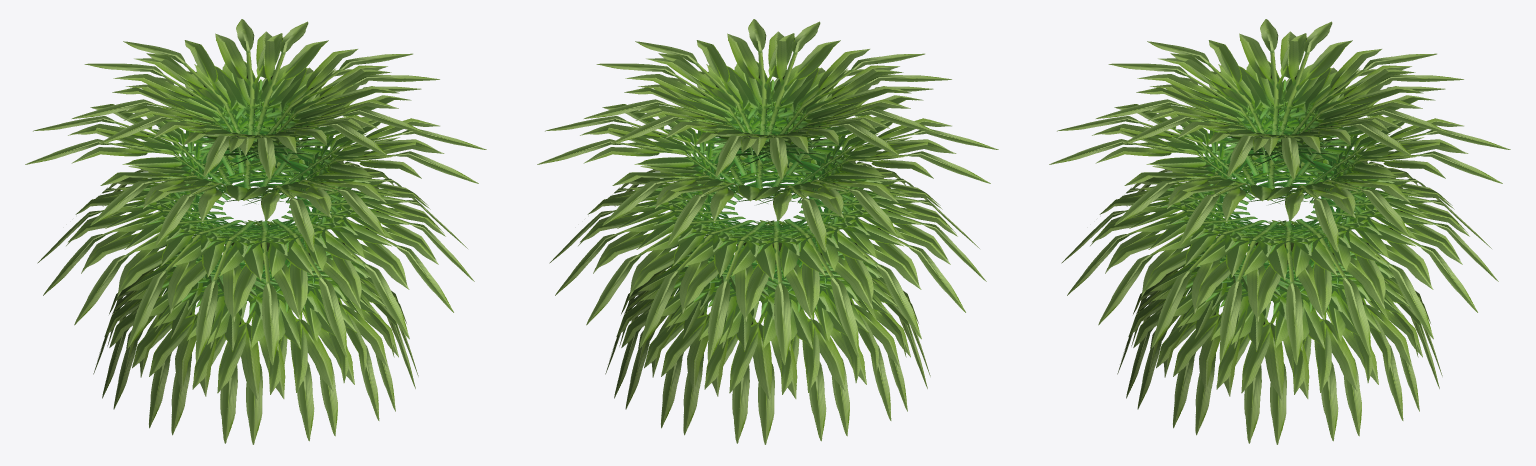
File: grass.fbx
3 renders of one model, left to right at view 1: azimuth 30°, elevation 25°; view 2: azimuth 150°, elevation 25°; view 3: azimuth 270°, elevation 25°, orthographic.
Parts seen in each view (by area): view 1: Plane030, Plane015, Plane004, Plane055, Plane046, Plane031, Plane003, Plane013, Plane073, Plane047, Plane057, Plane042 (+48 smaller); view 2: Plane026, Plane025, Plane006, Plane028, Plane048, Plane039, Plane005, Plane081, Plane024, Plane043, Plane038, Plane080 (+46 smaller); view 3: Plane021, Plane020, Plane002, Plane044, Plane019, Plane035, Plane001, Plane077, Plane017, Plane059, Plane063, Plane018 (+46 smaller).
Part boxes in pixels (x1=…): Plane030: x1=119, y1=215, x2=256, y2=347; Plane015: x1=245, y1=225, x2=361, y2=357; Plane004: x1=220, y1=21, x2=328, y2=151; Plane055: x1=206, y1=221, x2=326, y2=362; Plane046: x1=189, y1=19, x2=302, y2=157; Plane031: x1=196, y1=263, x2=317, y2=444; Plane003: x1=123, y1=40, x2=263, y2=160; Plane013: x1=171, y1=228, x2=279, y2=361; Plane073: x1=240, y1=264, x2=346, y2=441; Plane047: x1=254, y1=49, x2=412, y2=164; Plane057: x1=268, y1=212, x2=409, y2=339; Plane042: x1=149, y1=257, x2=277, y2=435; Plane026: x1=718, y1=221, x2=838, y2=365; Plane025: x1=683, y1=221, x2=799, y2=361; Plane006: x1=732, y1=21, x2=840, y2=151; Plane028: x1=780, y1=211, x2=921, y2=339; Plane048: x1=701, y1=19, x2=814, y2=157; Plane039: x1=708, y1=263, x2=829, y2=444; Plane005: x1=635, y1=40, x2=775, y2=160; Plane081: x1=752, y1=264, x2=858, y2=441; Plane024: x1=631, y1=220, x2=759, y2=347; Plane043: x1=766, y1=49, x2=924, y2=164; Plane038: x1=661, y1=257, x2=789, y2=435; Plane080: x1=693, y1=261, x2=796, y2=443; Plane021: x1=1269, y1=218, x2=1385, y2=357; Plane020: x1=1230, y1=221, x2=1350, y2=365; Plane002: x1=1244, y1=21, x2=1352, y2=151; Plane044: x1=1213, y1=19, x2=1326, y2=157; Plane019: x1=1195, y1=221, x2=1311, y2=361; Plane035: x1=1220, y1=263, x2=1341, y2=444; Plane001: x1=1147, y1=40, x2=1287, y2=160; Plane077: x1=1264, y1=264, x2=1370, y2=441; Plane017: x1=1098, y1=204, x2=1257, y2=325; Plane059: x1=1143, y1=215, x2=1277, y2=347; Plane063: x1=1292, y1=211, x2=1433, y2=339; Plane018: x1=1143, y1=219, x2=1280, y2=347.
Bounding box in the file's own units: 69.12 × 45.42 × 69.12.
1 material, 1 textured.
